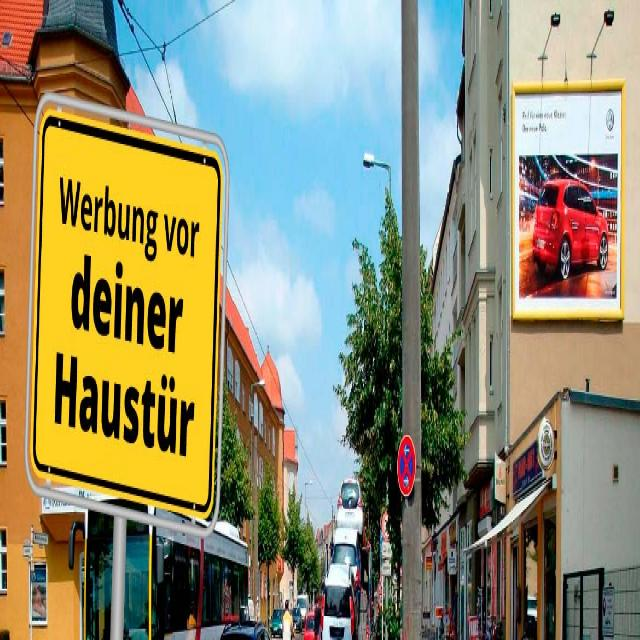Werbetafel frei: (513, 91, 623, 326)
